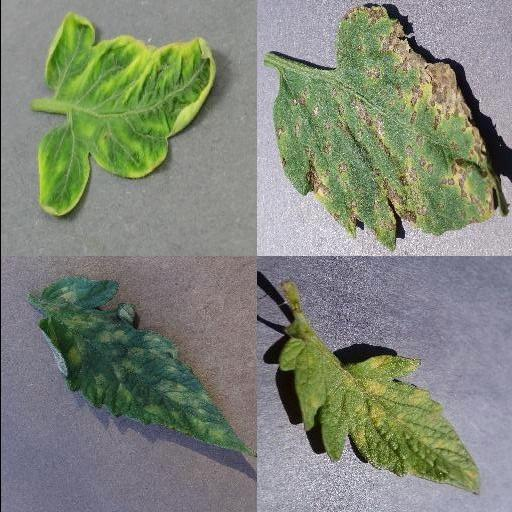Leaf Mold: (38, 275, 254, 457), (277, 323, 481, 494)
Septoria: (274, 5, 508, 252)
Yellow Leaf Curl Virus: (37, 12, 217, 217)
